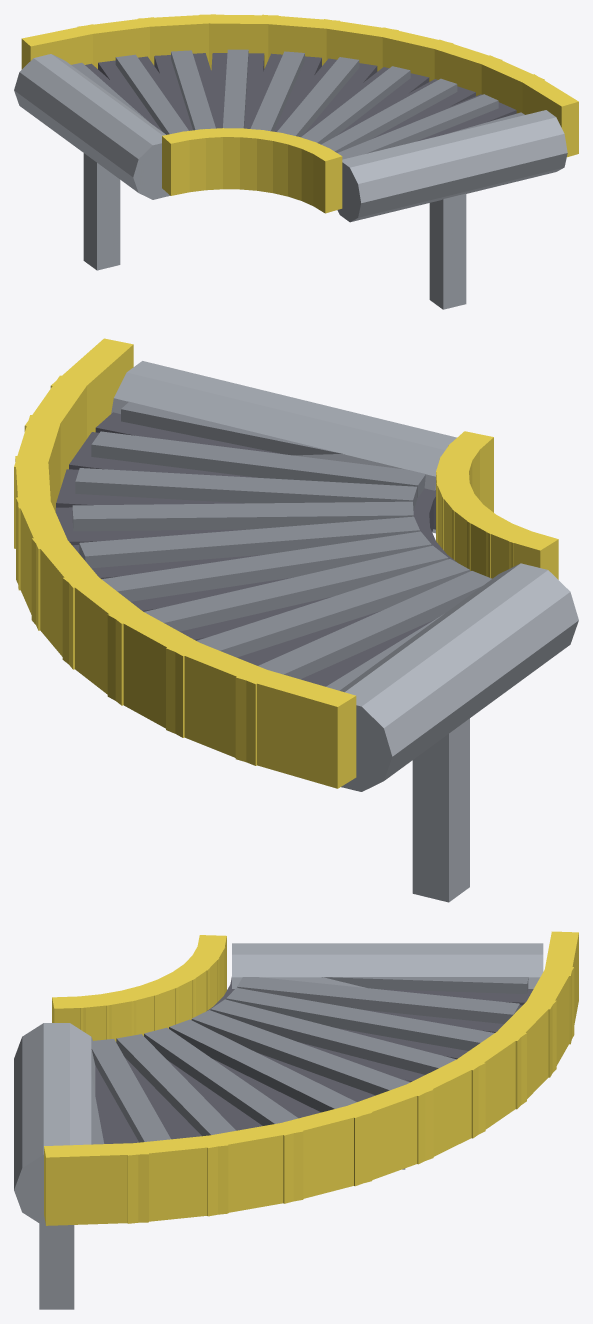
The model's file is conveyor_corner.glb.
3 views of the same model, one above another, from view 1: azimuth 30°, elevation 25°; view 2: azimuth 150°, elevation 25°; view 3: azimuth 270°, elevation 25° (orthographic). The views are drawn at different scales.
Parts seen in each view (by area): view 1: conveyor_corner; view 2: conveyor_corner; view 3: conveyor_corner.
Part boxes in pixels (<box>): conveyor_corner: <box>14,14,578,309</box>; conveyor_corner: <box>14,338,578,902</box>; conveyor_corner: <box>14,931,578,1309</box>.
Bounding box in the file's own units: 1.5 × 0.66 × 1.5.
